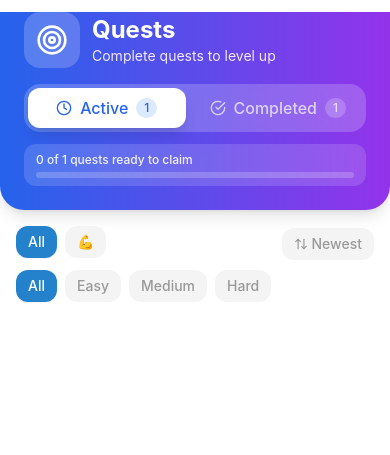
Test case: Quests › switches between active and completed tabs
# Click Completed tab
Click the text "Completed" at (275, 108), box [234,96,317,120]
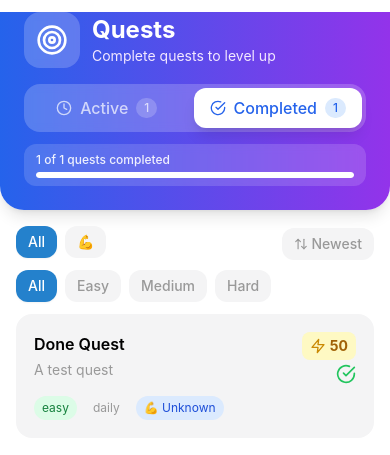
Result: the heading "Done Quest" is shown at [34,334,125,354]
